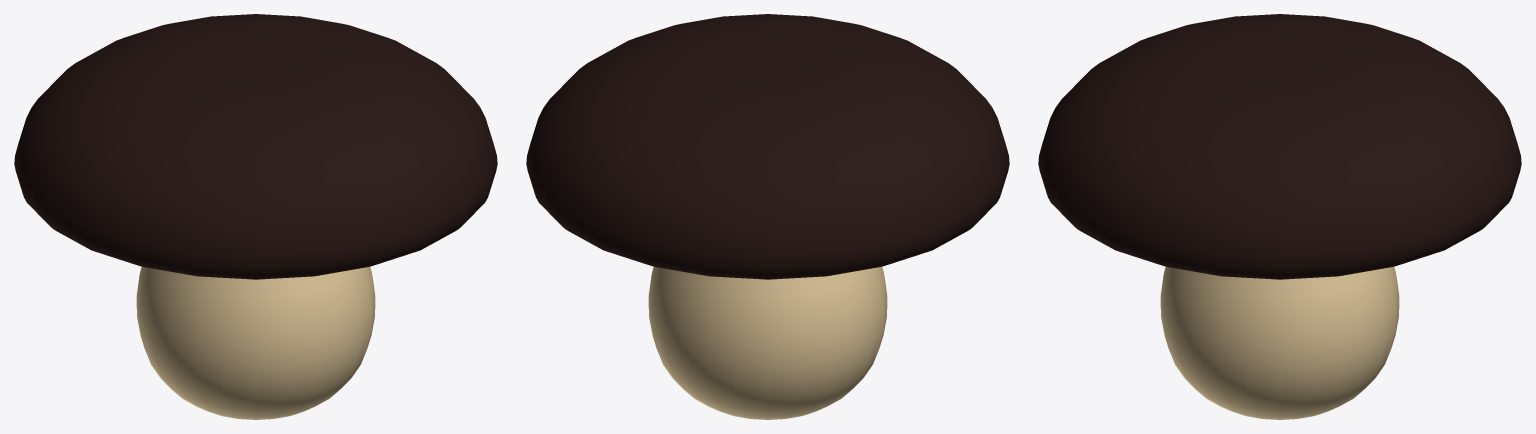
Rendered from grib.fbx.
3 renders of one model, left to right at view 1: azimuth 30°, elevation 25°; view 2: azimuth 150°, elevation 25°; view 3: azimuth 270°, elevation 25°, orthographic.
Parts seen in each view (by area): view 1: КриваяБезье; view 2: КриваяБезье; view 3: КриваяБезье.
Part boxes in pixels (bbox=[...]): КриваяБезье: bbox=[14, 14, 497, 419]; КриваяБезье: bbox=[526, 14, 1009, 419]; КриваяБезье: bbox=[1038, 14, 1521, 419].
Size of the model in its own units: 157 by 122 by 157.
